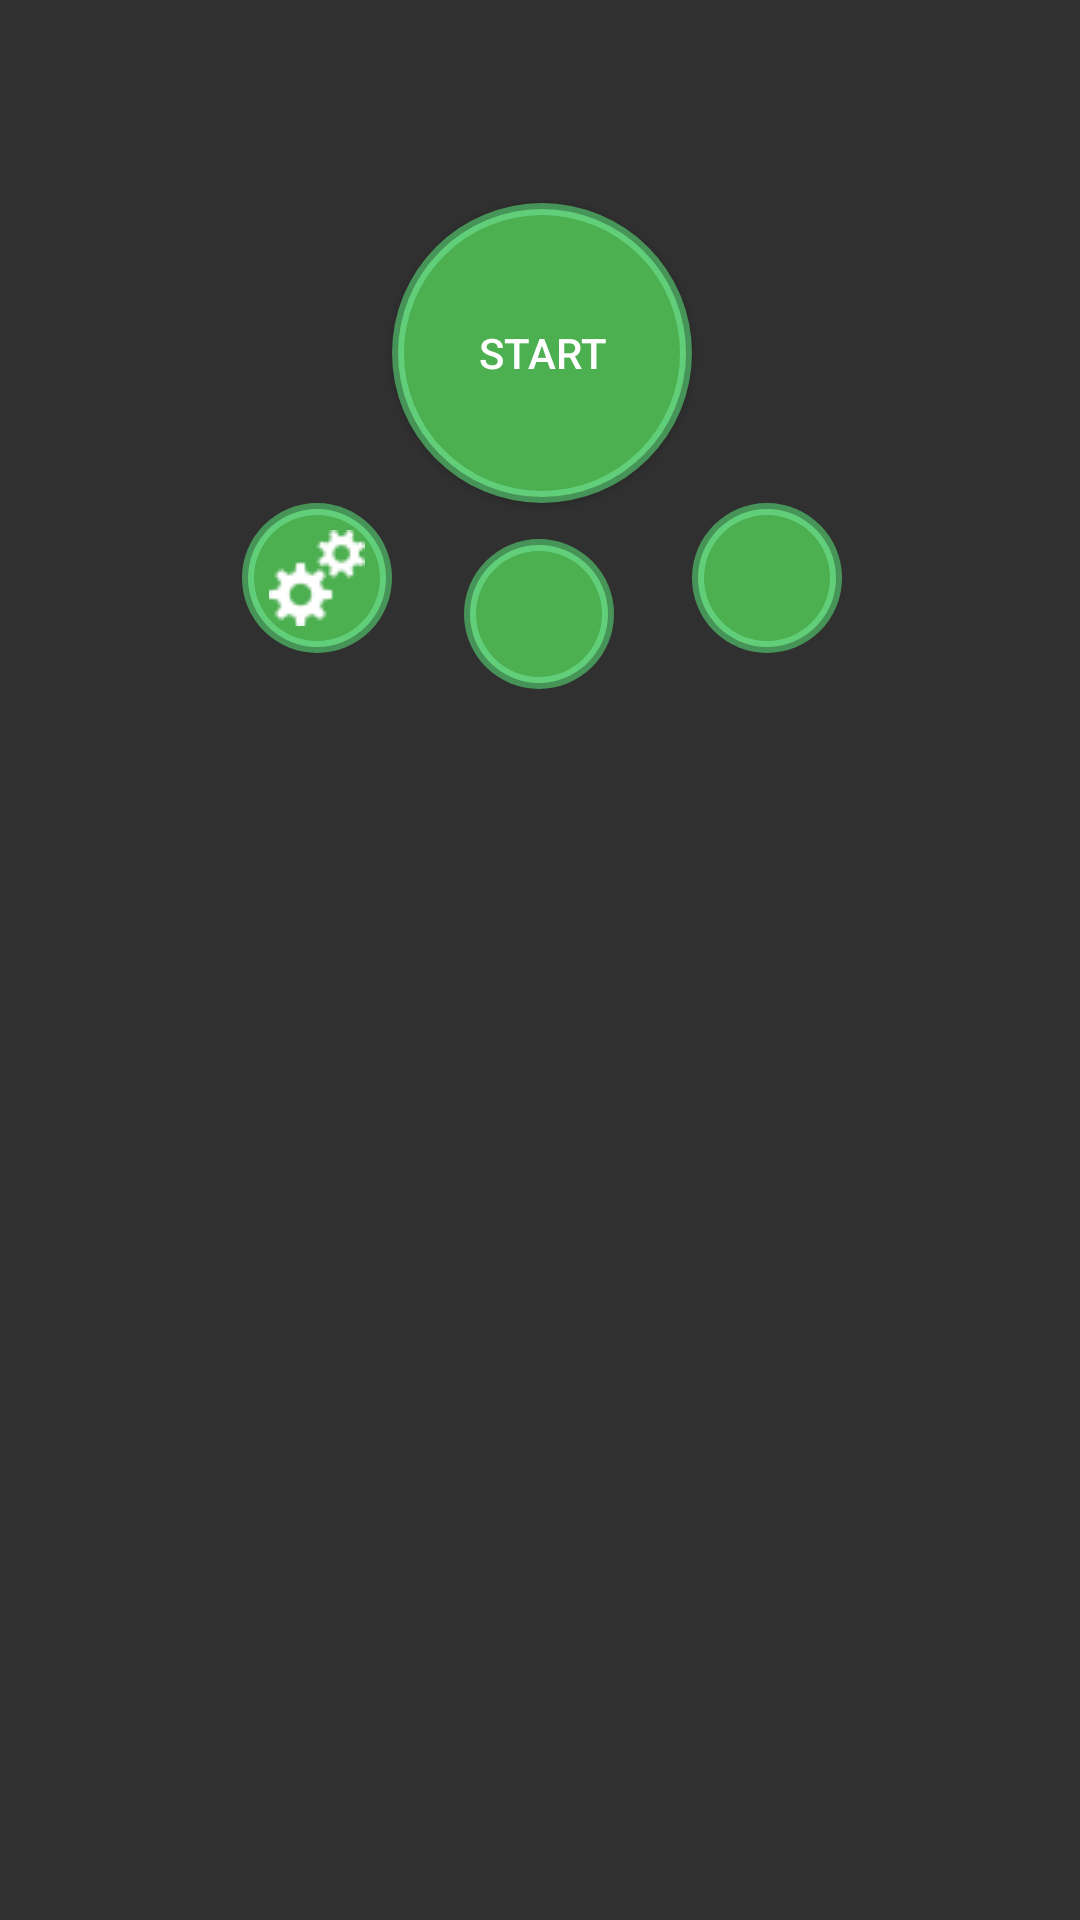

Icons on this 1080px×1920px Android screen, each with the point to tap as (x,y):
gear: (317,578)
